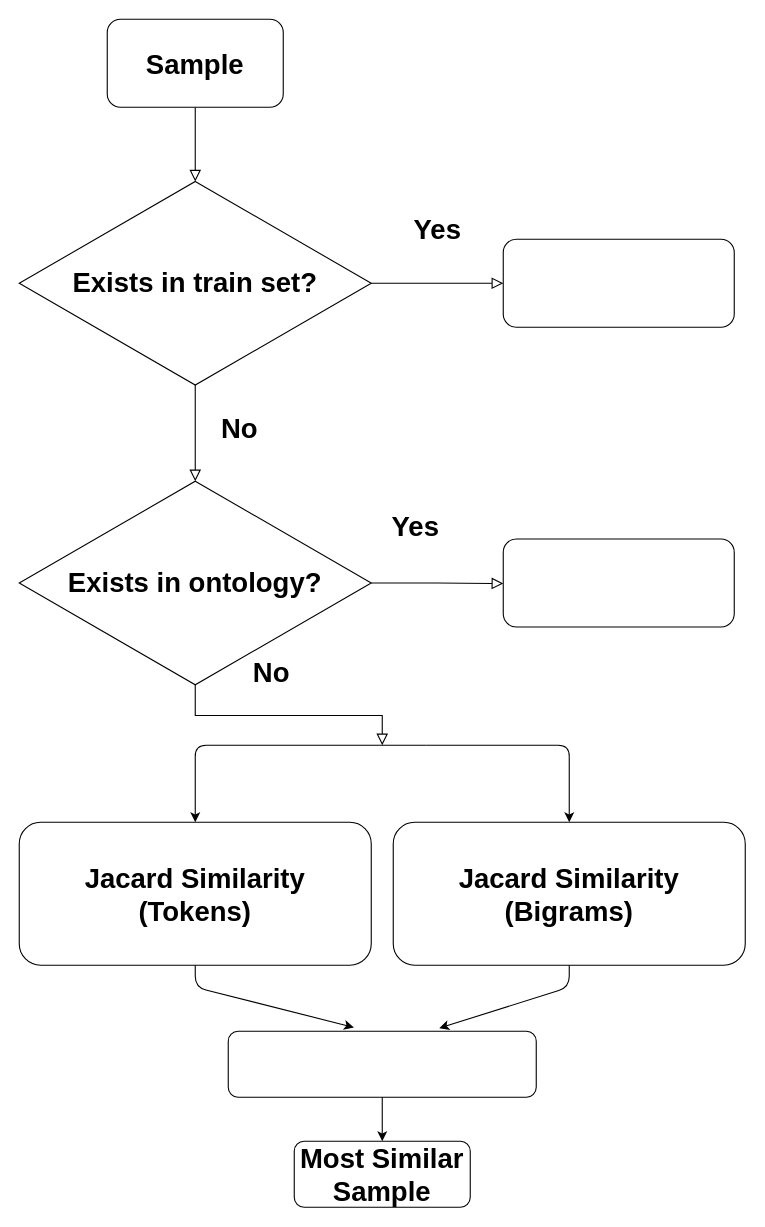
Some shapes in this 765 by 1227 pixel diagram are drawn without their labels. The centre of each missing label's shape, as x and y in pixels:
Average: (x=381, y=1063)
Return sample in ontology: (x=618, y=582)
Return sample in train set: (x=618, y=282)
